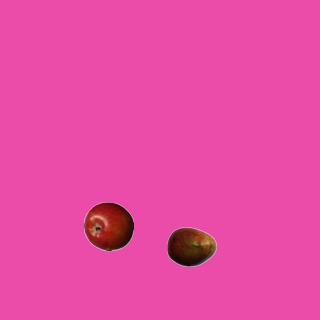Apple Braeburn: (83, 201, 133, 251)
Mango Red: (166, 221, 216, 271)
